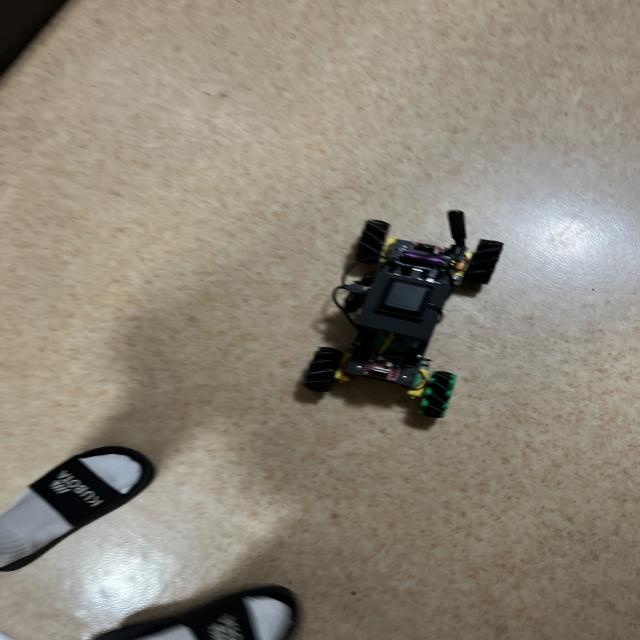robot: (303, 211, 503, 418)
